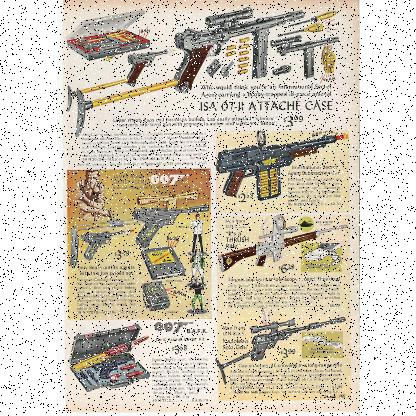gun: (169, 5, 303, 96), (216, 124, 341, 204), (130, 188, 210, 249), (267, 32, 339, 80)
